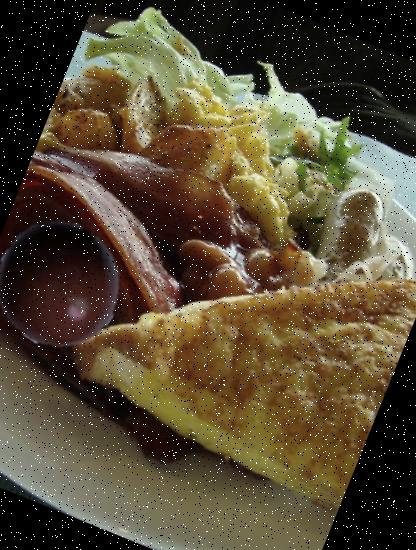Tamarillo: (0, 202, 141, 366)
